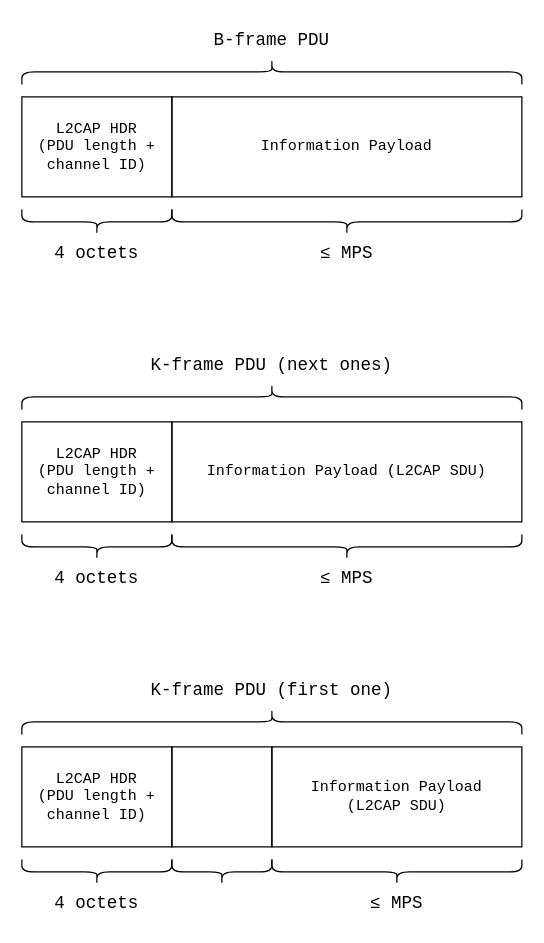
This 544x943 diagram has some shape labels left out. The box of each missing label's shape, as (x1, y1, x2, y2) in pixels:
2 octets: (171, 858, 272, 884)
L2CAP SDU length: (171, 746, 272, 847)
